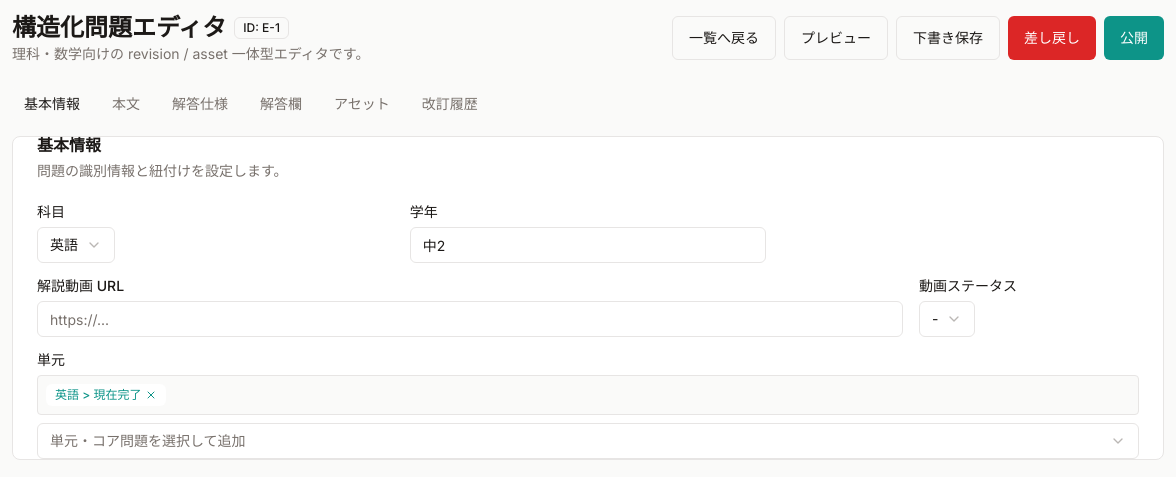
Test case: ProblemEditorClient › 別解JSONが不正なときはエラー表示が出る
Press the mouse on the tab "解答仕様" at (200, 104), box [160,88,240,120]
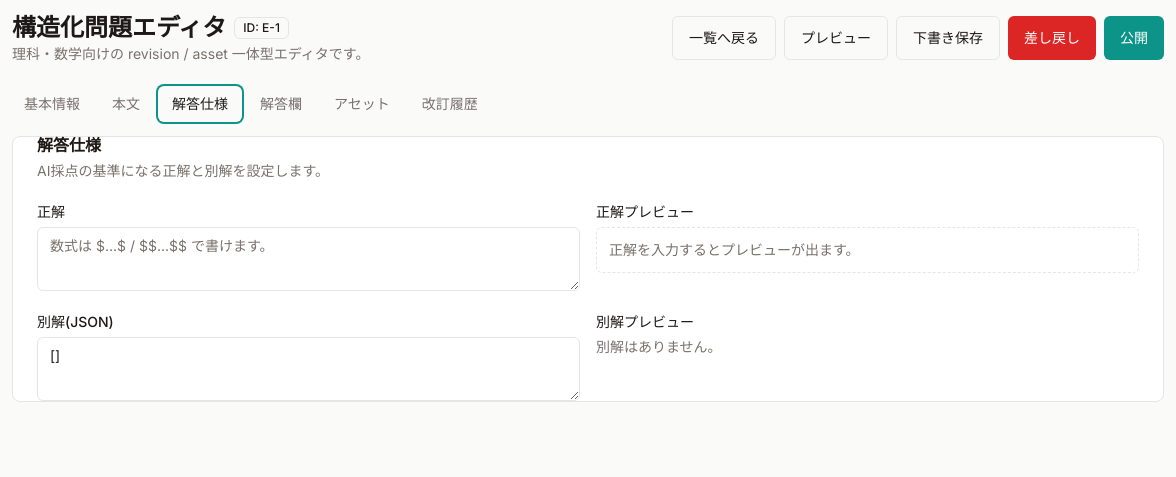
Replace the text in the text box with placeholder "[\"別解1\", \"別解2\"]" with "[\"abc\"" at (308, 369), box [37,337,580,401]
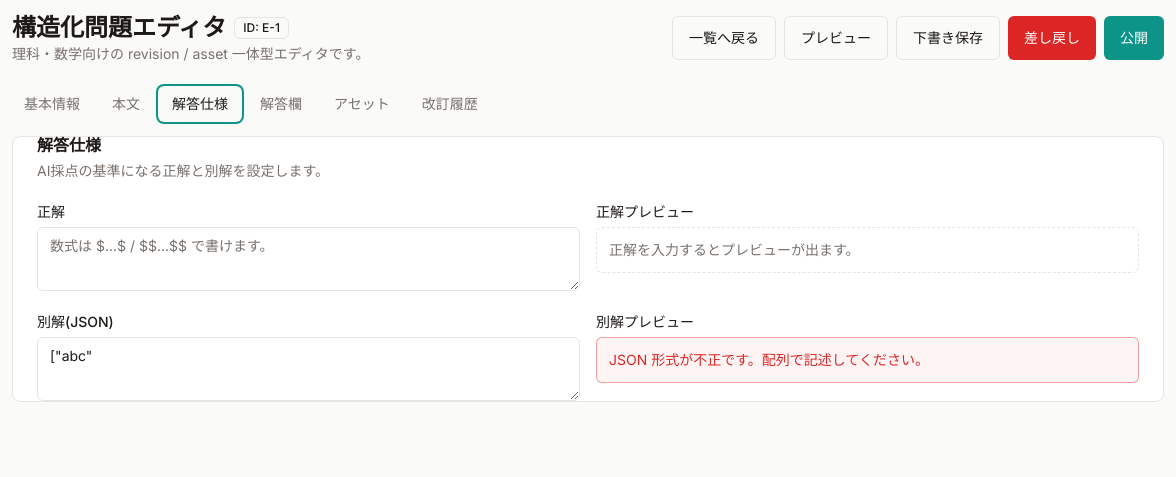
Expected: the text "JSON 形式が不正です。配列で記述してください。" is shown, [596,337,1139,383]
